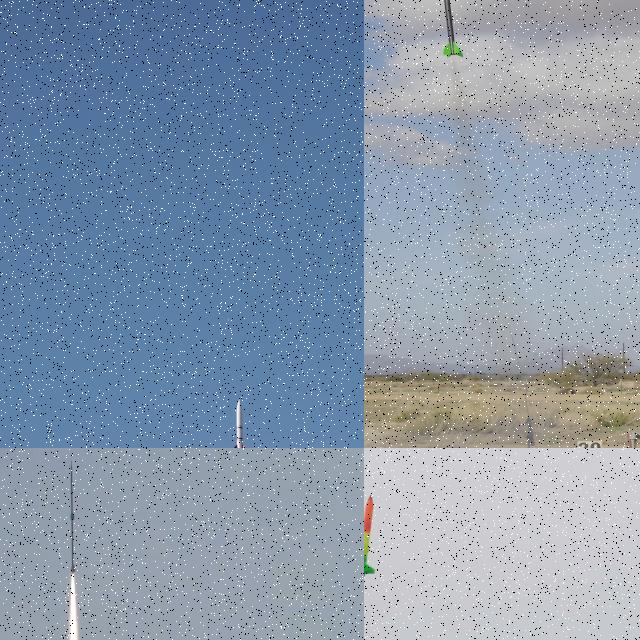Rocket: (441, 0, 463, 58), (364, 493, 376, 578), (233, 399, 248, 448), (70, 460, 76, 574)
